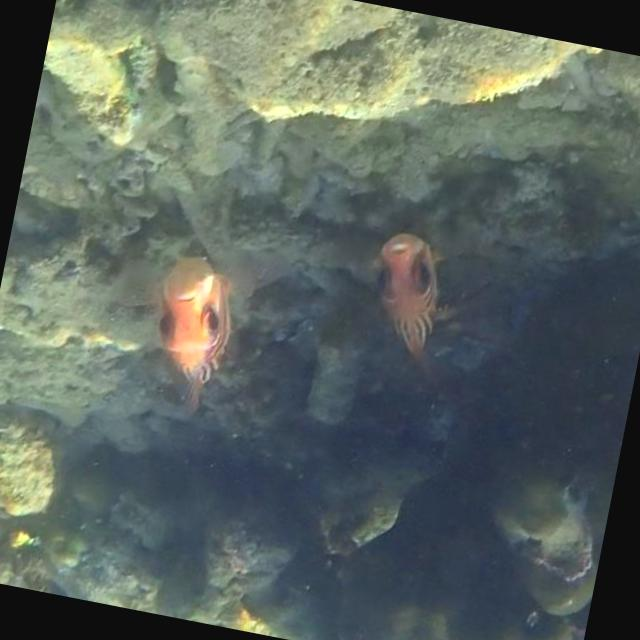Asker Baligi: (108, 220, 268, 430), (346, 216, 464, 402)
